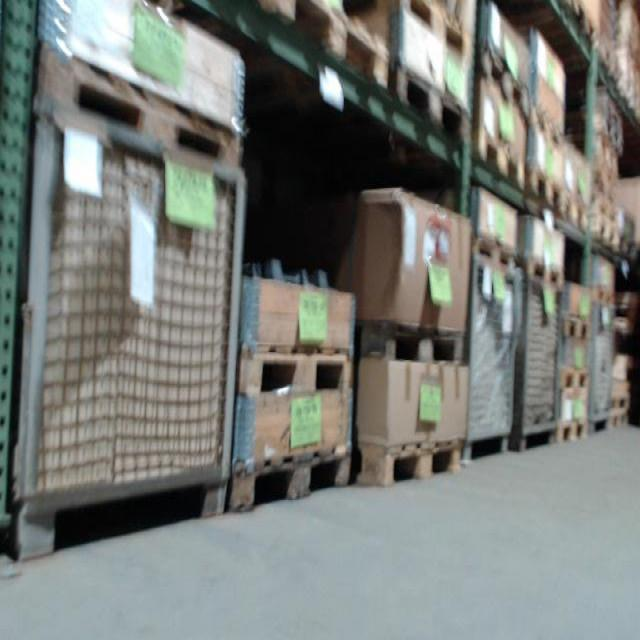pallet: (34, 50, 250, 170), (244, 1, 391, 92), (222, 444, 354, 517), (235, 342, 359, 400), (353, 432, 470, 493), (392, 64, 473, 140), (357, 320, 470, 374), (476, 44, 534, 119), (396, 1, 471, 52), (473, 133, 529, 193), (471, 237, 524, 286), (527, 160, 558, 216), (548, 415, 591, 447), (526, 258, 566, 288), (536, 110, 568, 147), (562, 195, 588, 236), (553, 359, 594, 384), (561, 312, 593, 344), (586, 281, 620, 307), (609, 409, 631, 436), (613, 392, 630, 408)
stillage: (4, 93, 265, 563), (453, 242, 530, 468), (517, 274, 569, 471), (586, 295, 621, 442)
